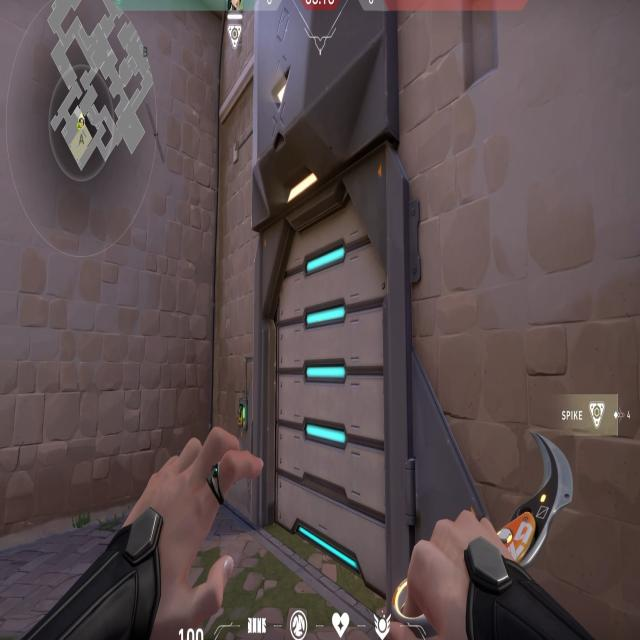A_Door: (252, 146, 416, 603)
